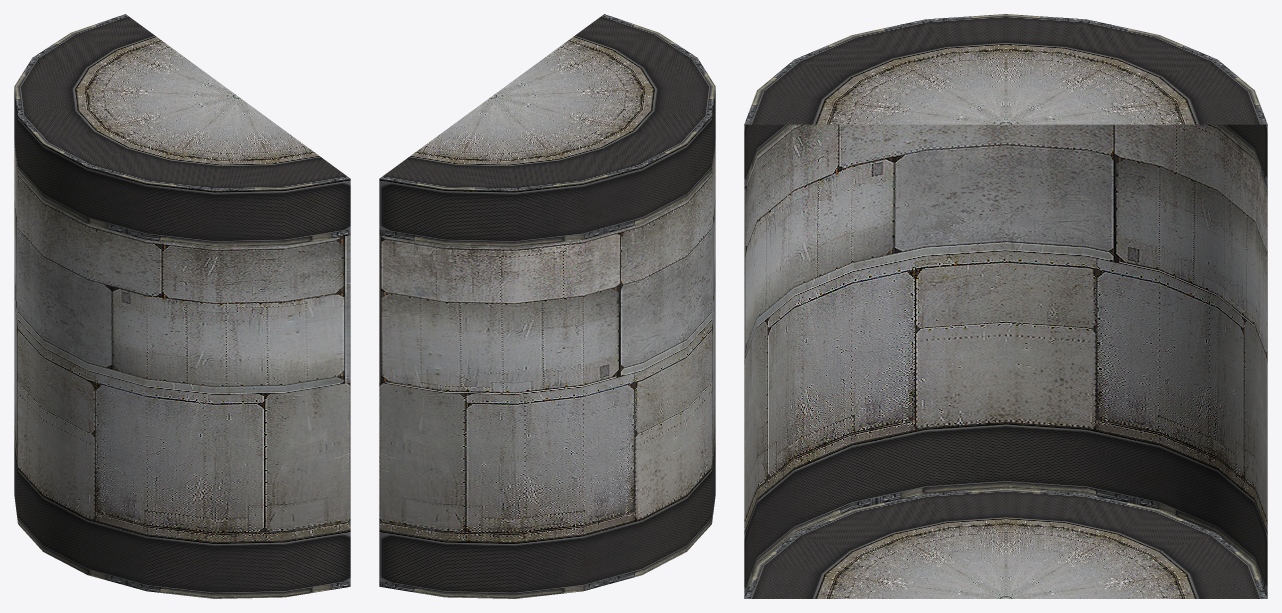
The model's file is Wall_B_Mid4mts_19.fbx.
The picture shows the model from 3 angles, left to right: view 1: azimuth 30°, elevation 25°; view 2: azimuth 150°, elevation 25°; view 3: azimuth 270°, elevation 25°; orthographic projection. The views are drawn at different scales.
Parts seen in each view (by area): view 1: Wall_B_Mid4mts_19; view 2: Wall_B_Mid4mts_19; view 3: Wall_B_Mid4mts_19.
Boxes of the visible parts, x1,y1,x2,y2 form: Wall_B_Mid4mts_19: (14, 14, 350, 598); Wall_B_Mid4mts_19: (379, 14, 715, 598); Wall_B_Mid4mts_19: (744, 14, 1267, 598).
Size of the model in its own units: 200 by 400 by 400.
1 material, 1 textured.
